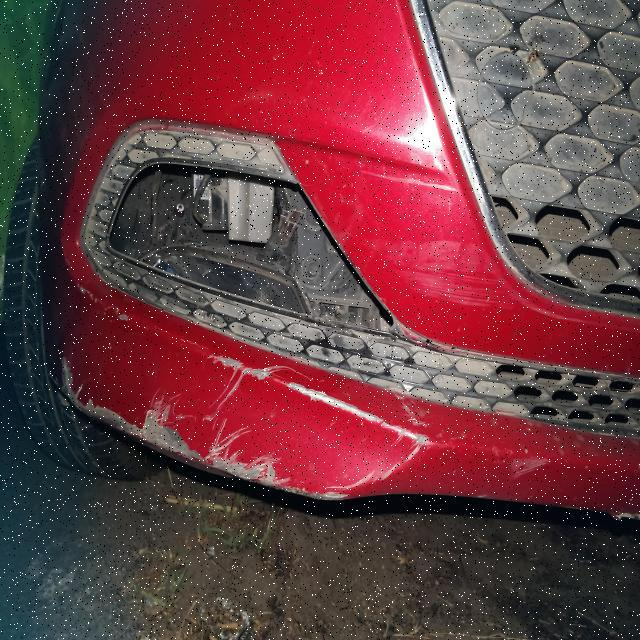front-bumper-dent: (0, 92, 545, 512)
